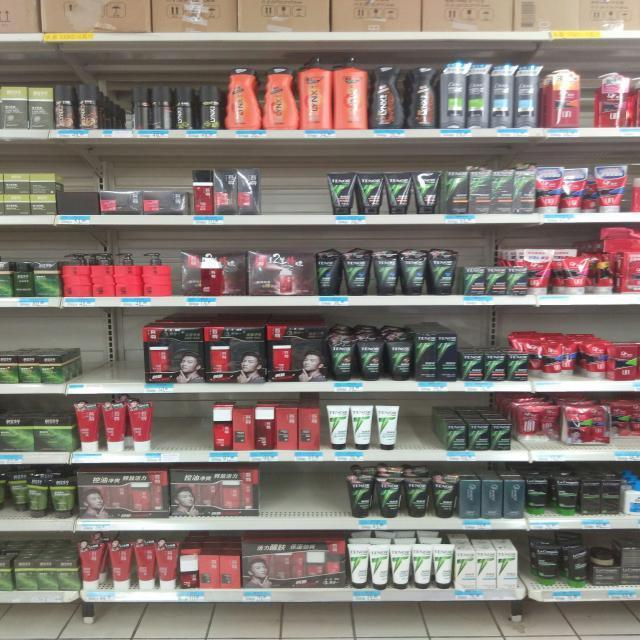Imprecise: (519, 407, 561, 452), (611, 402, 640, 450)
